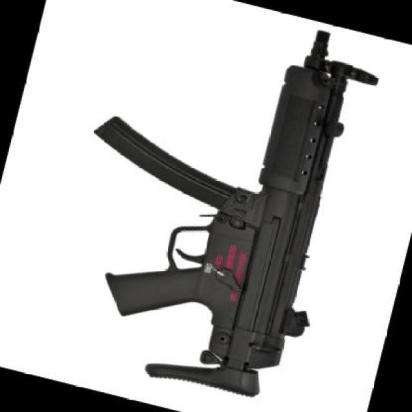Gun: (92, 29, 378, 400)
